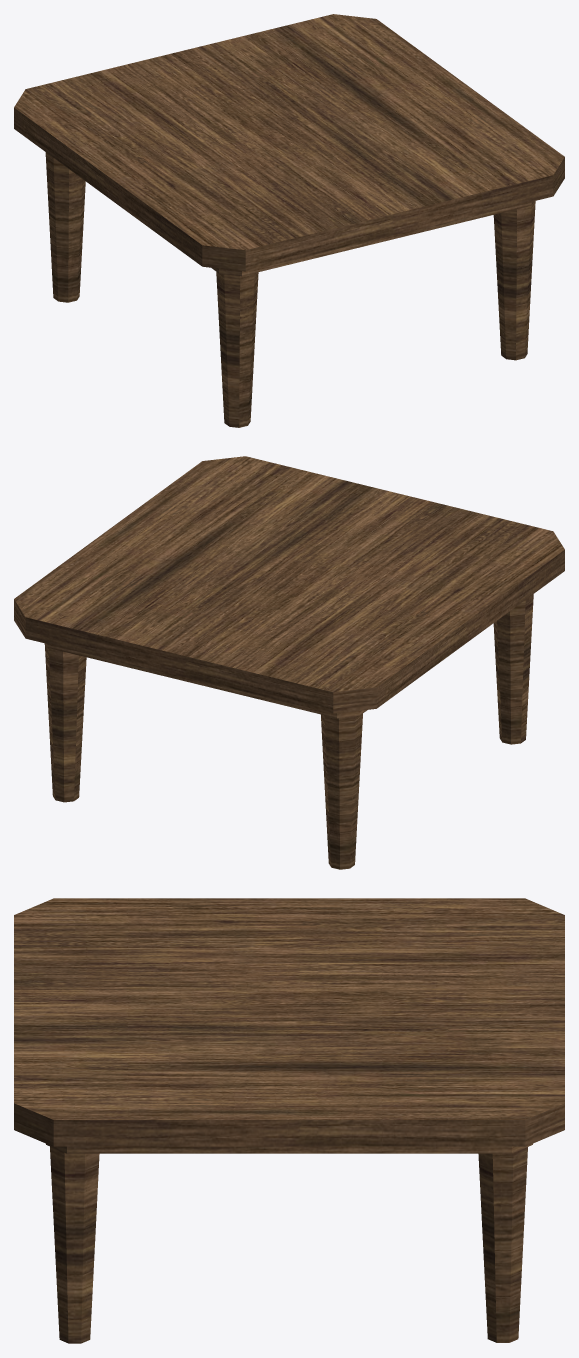
Rendered from TABLE_01.fbx.
The picture shows the model from 3 angles, top to bottom: view 1: azimuth 30°, elevation 25°; view 2: azimuth 150°, elevation 25°; view 3: azimuth 270°, elevation 25°; orthographic projection. The views are drawn at different scales.
Visible parts, largest first — view 1: TABLE_01; view 2: TABLE_01; view 3: TABLE_01.
Part boxes in pixels (x1,y1,x2,y2): TABLE_01: [14, 14, 564, 427]; TABLE_01: [14, 456, 564, 869]; TABLE_01: [14, 898, 564, 1343].
Bounding box in the file's own units: 163 × 83.35 × 171.
